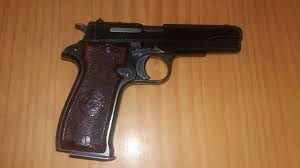Arma Real: (56, 18, 244, 159)
